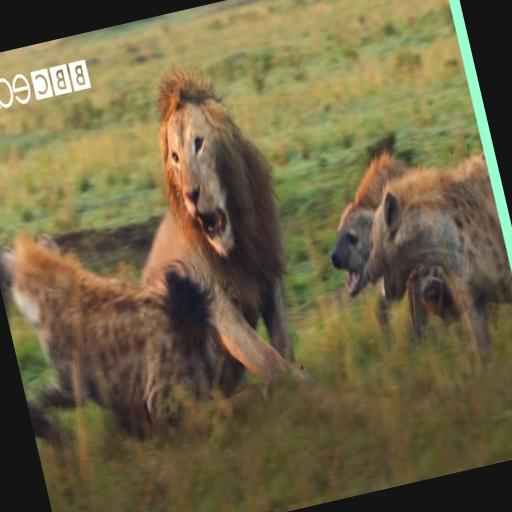lions: (104, 56, 316, 304)
